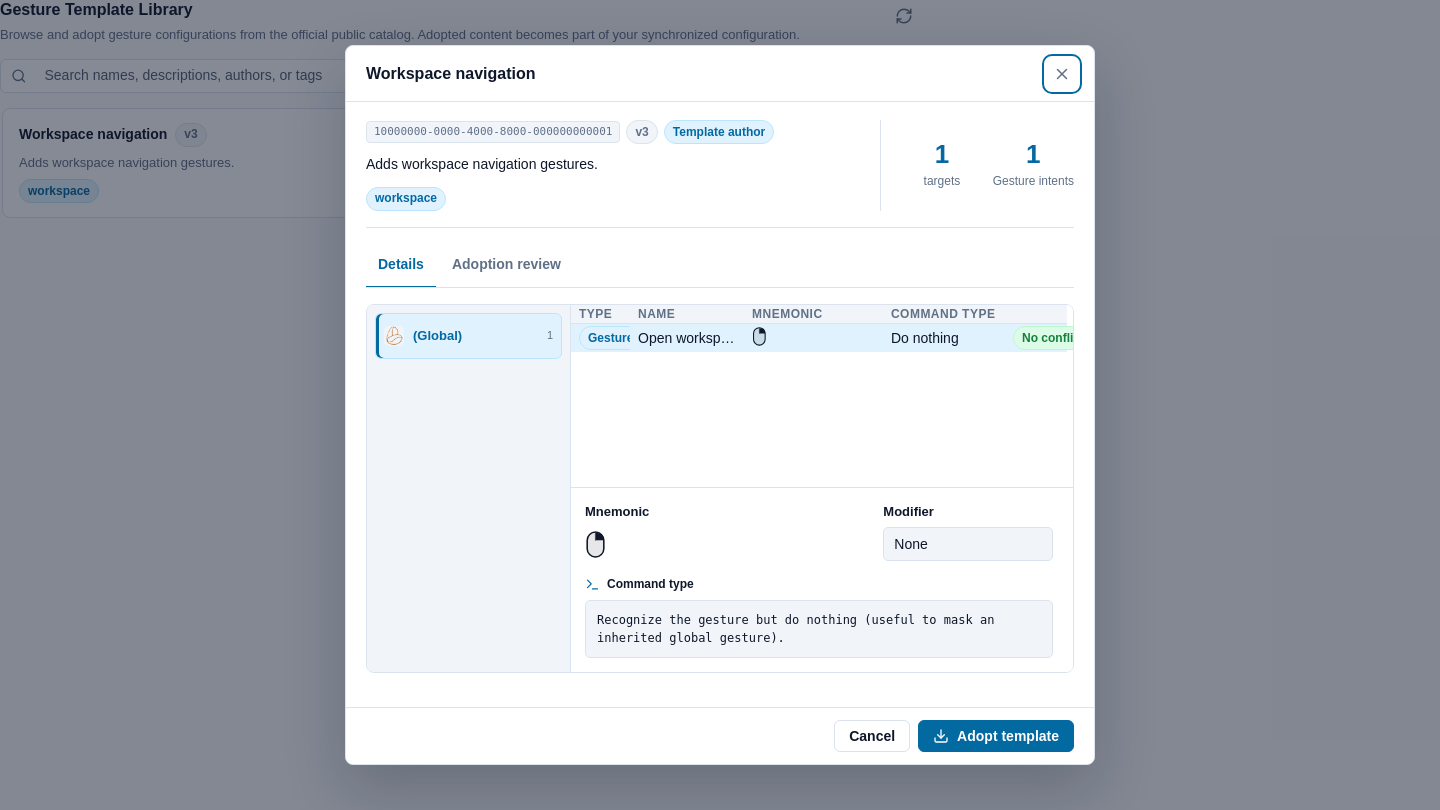
TemplatesView › moves the adoption conflict review to the second outer tab
The width and height of the screenshot is (1440, 810).
expect the text "Existing gesture" is not shown: met
Click the tab "Adoption review": (506, 266) [440,244,573,288]
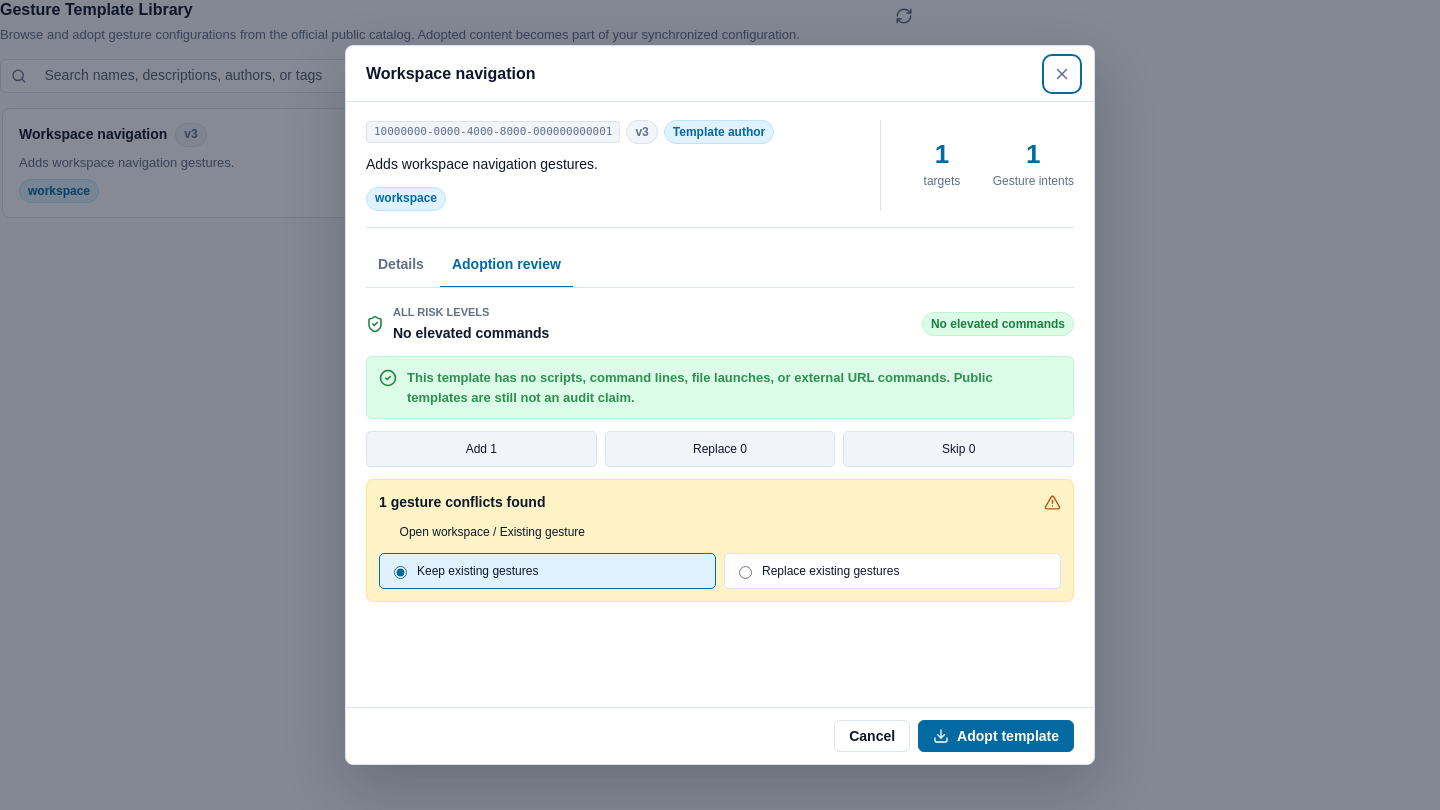
expect the panel shows "Existing gesture": met, box [400,525,585,539]
expect the panel shows "Add 1": met, box [466,442,497,456]
